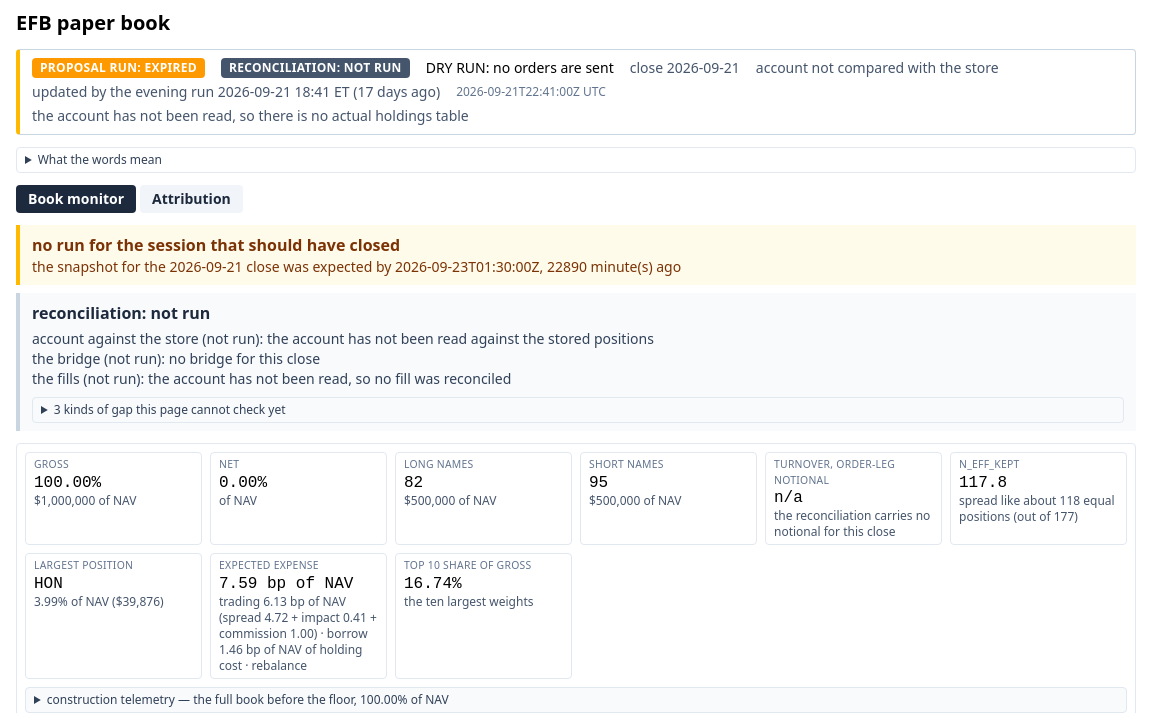
the attribution section › says n/a for the hedge forecast, and draws no such chart, when it is absent
Click the tab "Attribution" at [191, 199], box [140, 185, 243, 213]
(page scrolled)
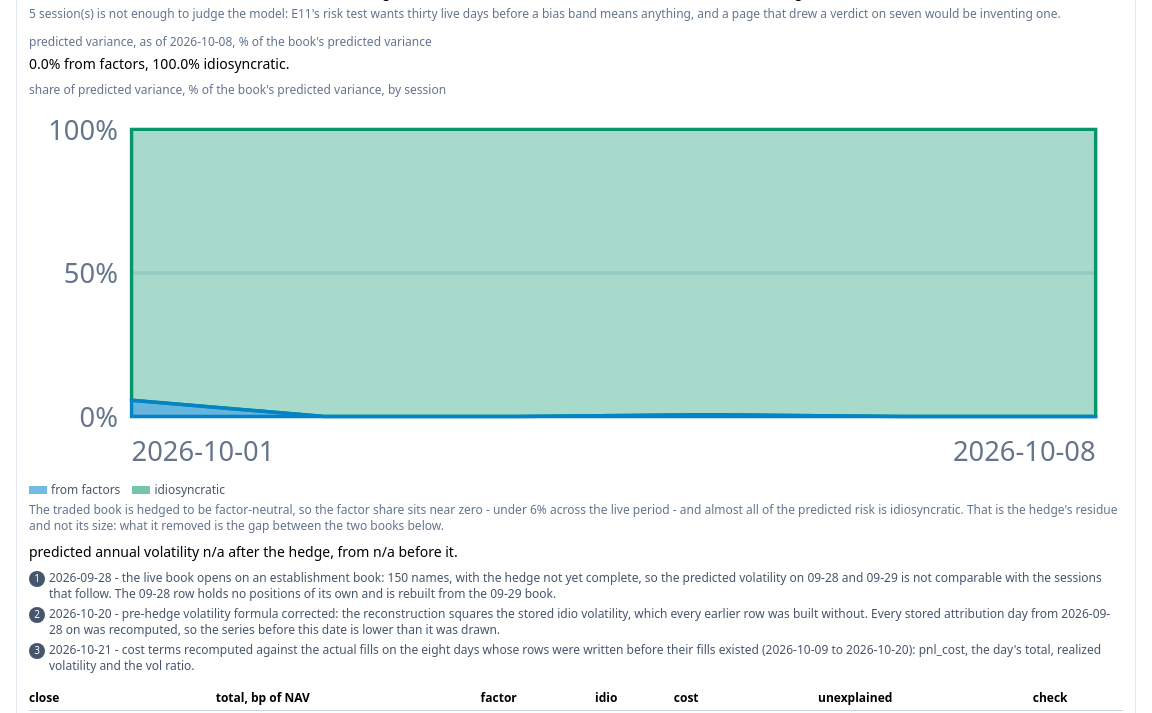
Now the text "n/a" is shown, box [203, 542, 224, 561]
Now the element named "0%50%100%2026-10-012026-10-08" is shown
